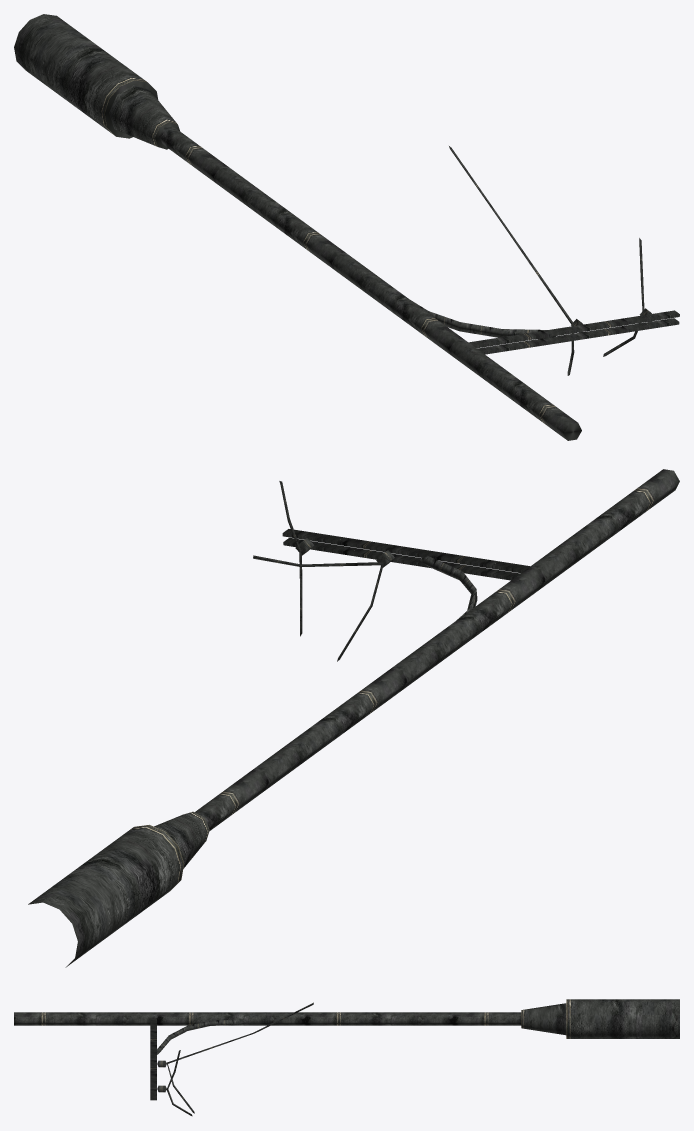
The model's file is prop_trolleypole_side.glb.
3 renders of one model, top to bottom at view 1: azimuth 30°, elevation 25°; view 2: azimuth 150°, elevation 25°; view 3: azimuth 270°, elevation 25°, orthographic. The views are drawn at different scales.
Bounding box in the file's own units: 56.24 × 36.86 × 213.
1 material, 1 textured.
